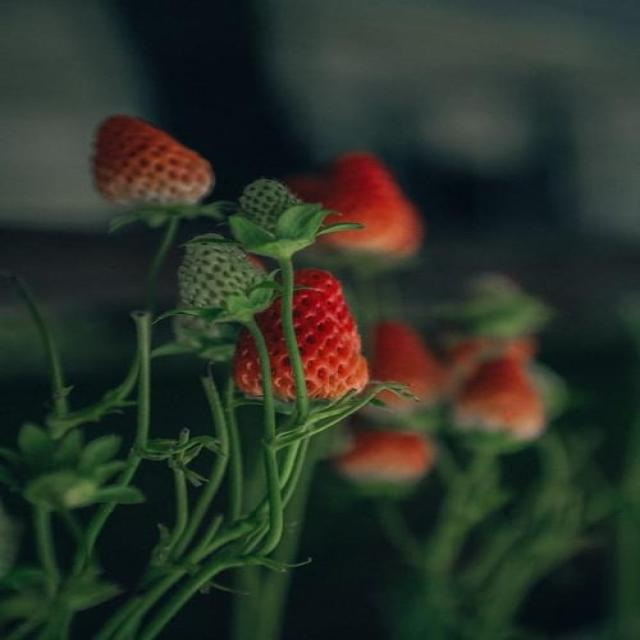immature: (180, 231, 264, 309), (244, 181, 307, 235)
mature: (238, 268, 368, 404), (90, 113, 214, 207)
